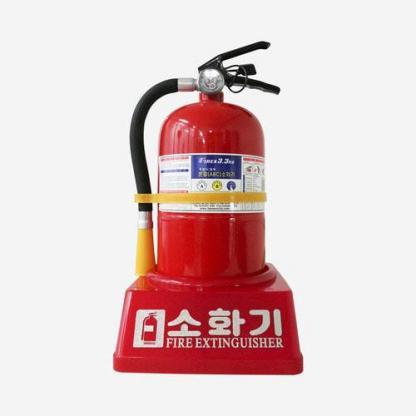Fire Extinguisher: (116, 34, 309, 293)
